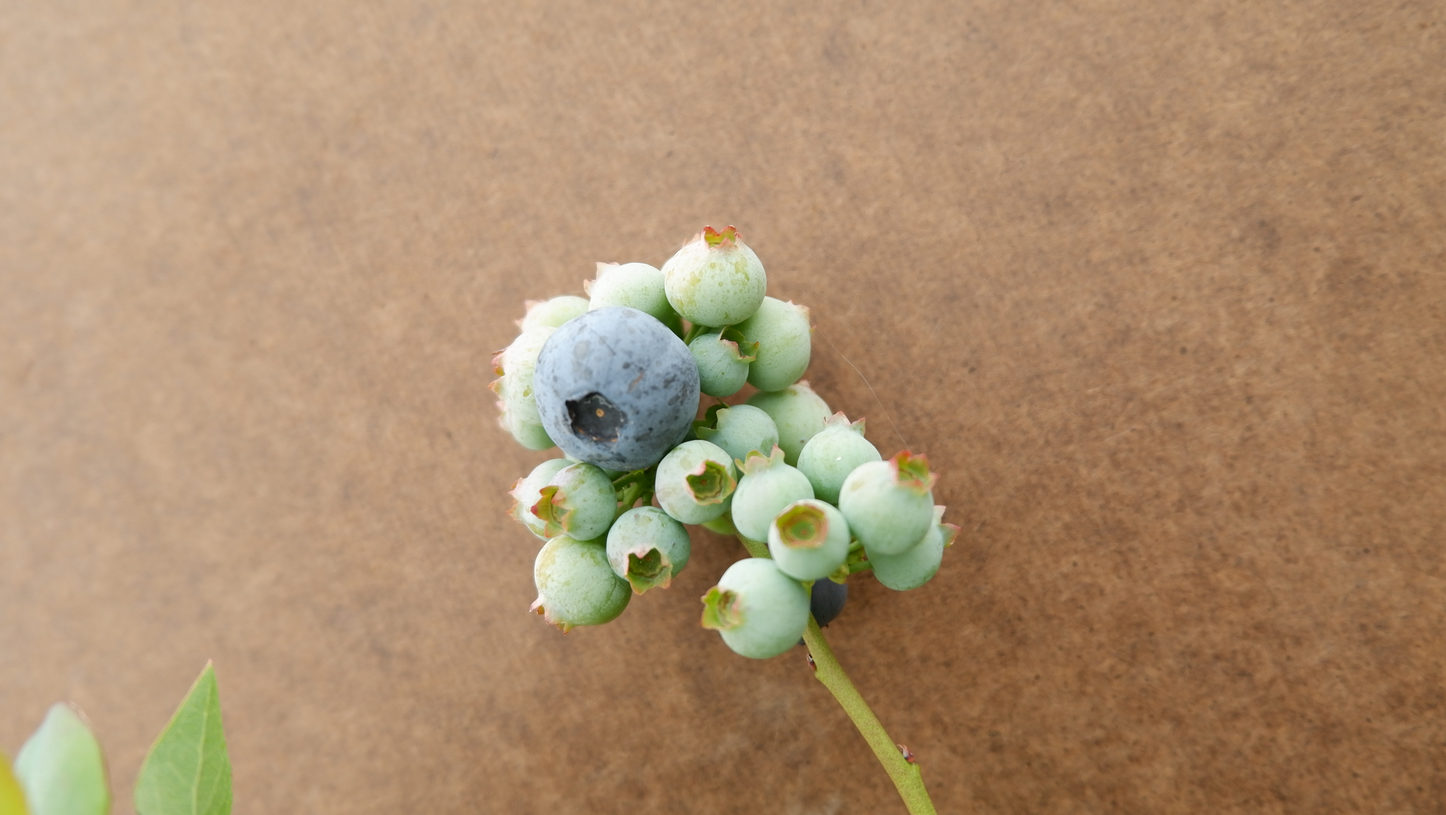Immature: (700, 559, 811, 661), (838, 448, 938, 555), (665, 225, 767, 327), (528, 534, 631, 634), (726, 296, 817, 393), (732, 444, 815, 543), (796, 412, 884, 504), (745, 379, 834, 469), (606, 506, 692, 595), (488, 327, 561, 426), (530, 463, 618, 542), (770, 499, 852, 582), (656, 440, 737, 524), (506, 459, 577, 542), (583, 262, 676, 325), (695, 397, 779, 464), (688, 326, 759, 397), (496, 400, 556, 450), (514, 295, 590, 332)
Mature: (534, 306, 700, 473), (811, 577, 849, 626)
